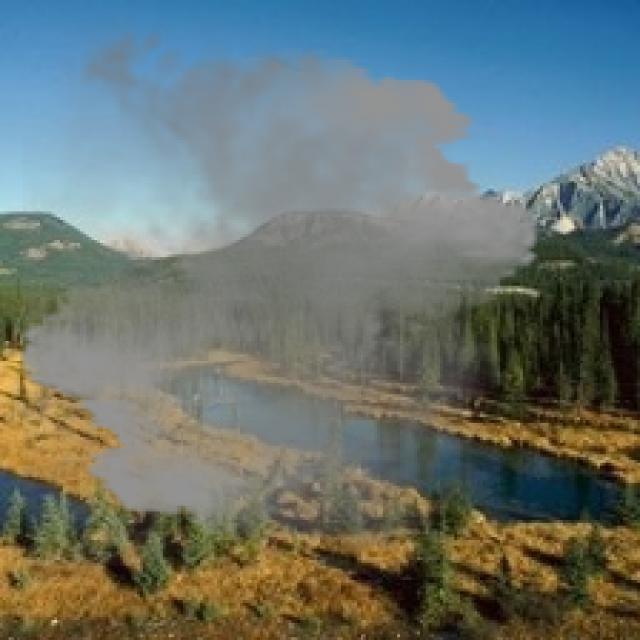smoke: (3, 11, 557, 566)
